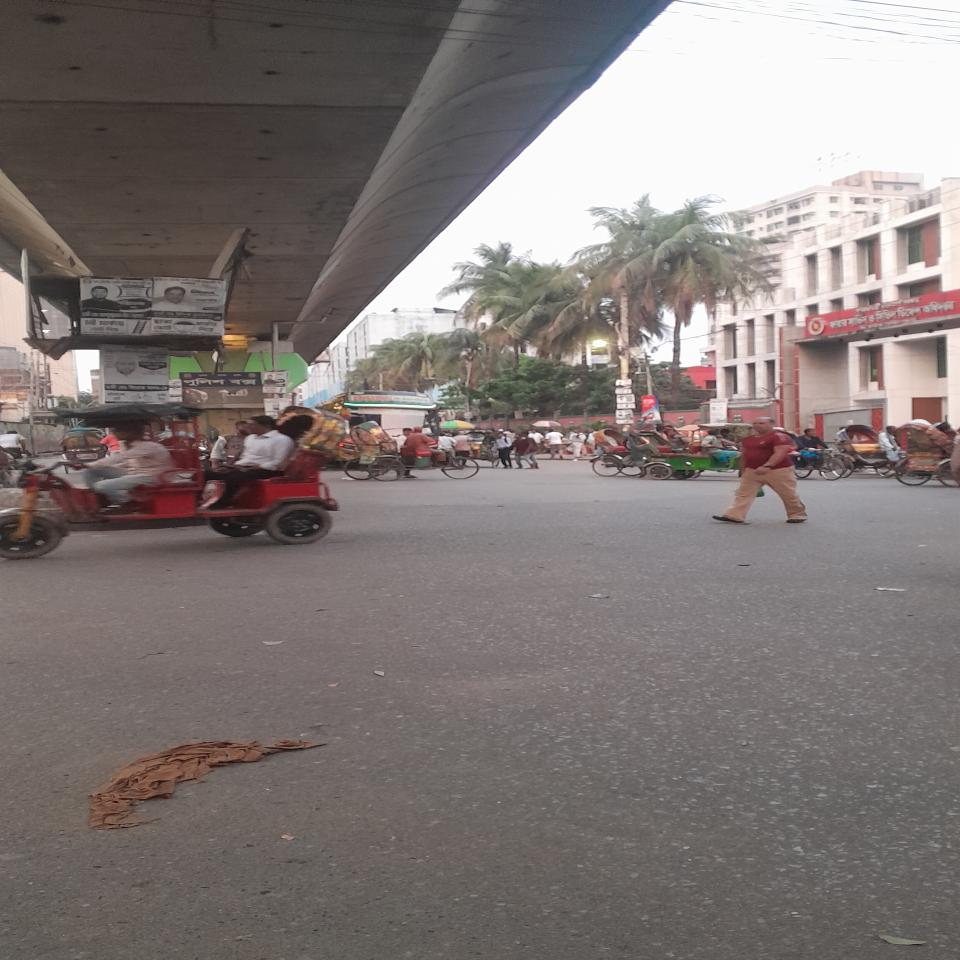person: (713, 417, 807, 524)
